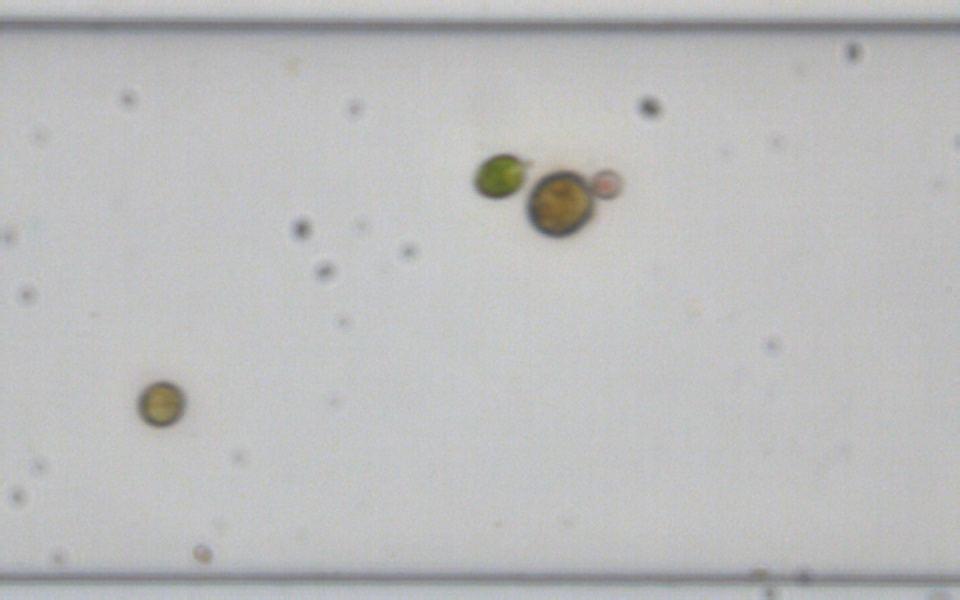Effrenium: (524, 165, 597, 239), (134, 378, 186, 429)
Platymonas: (471, 151, 531, 199)
Porphyridium: (589, 167, 621, 200)
